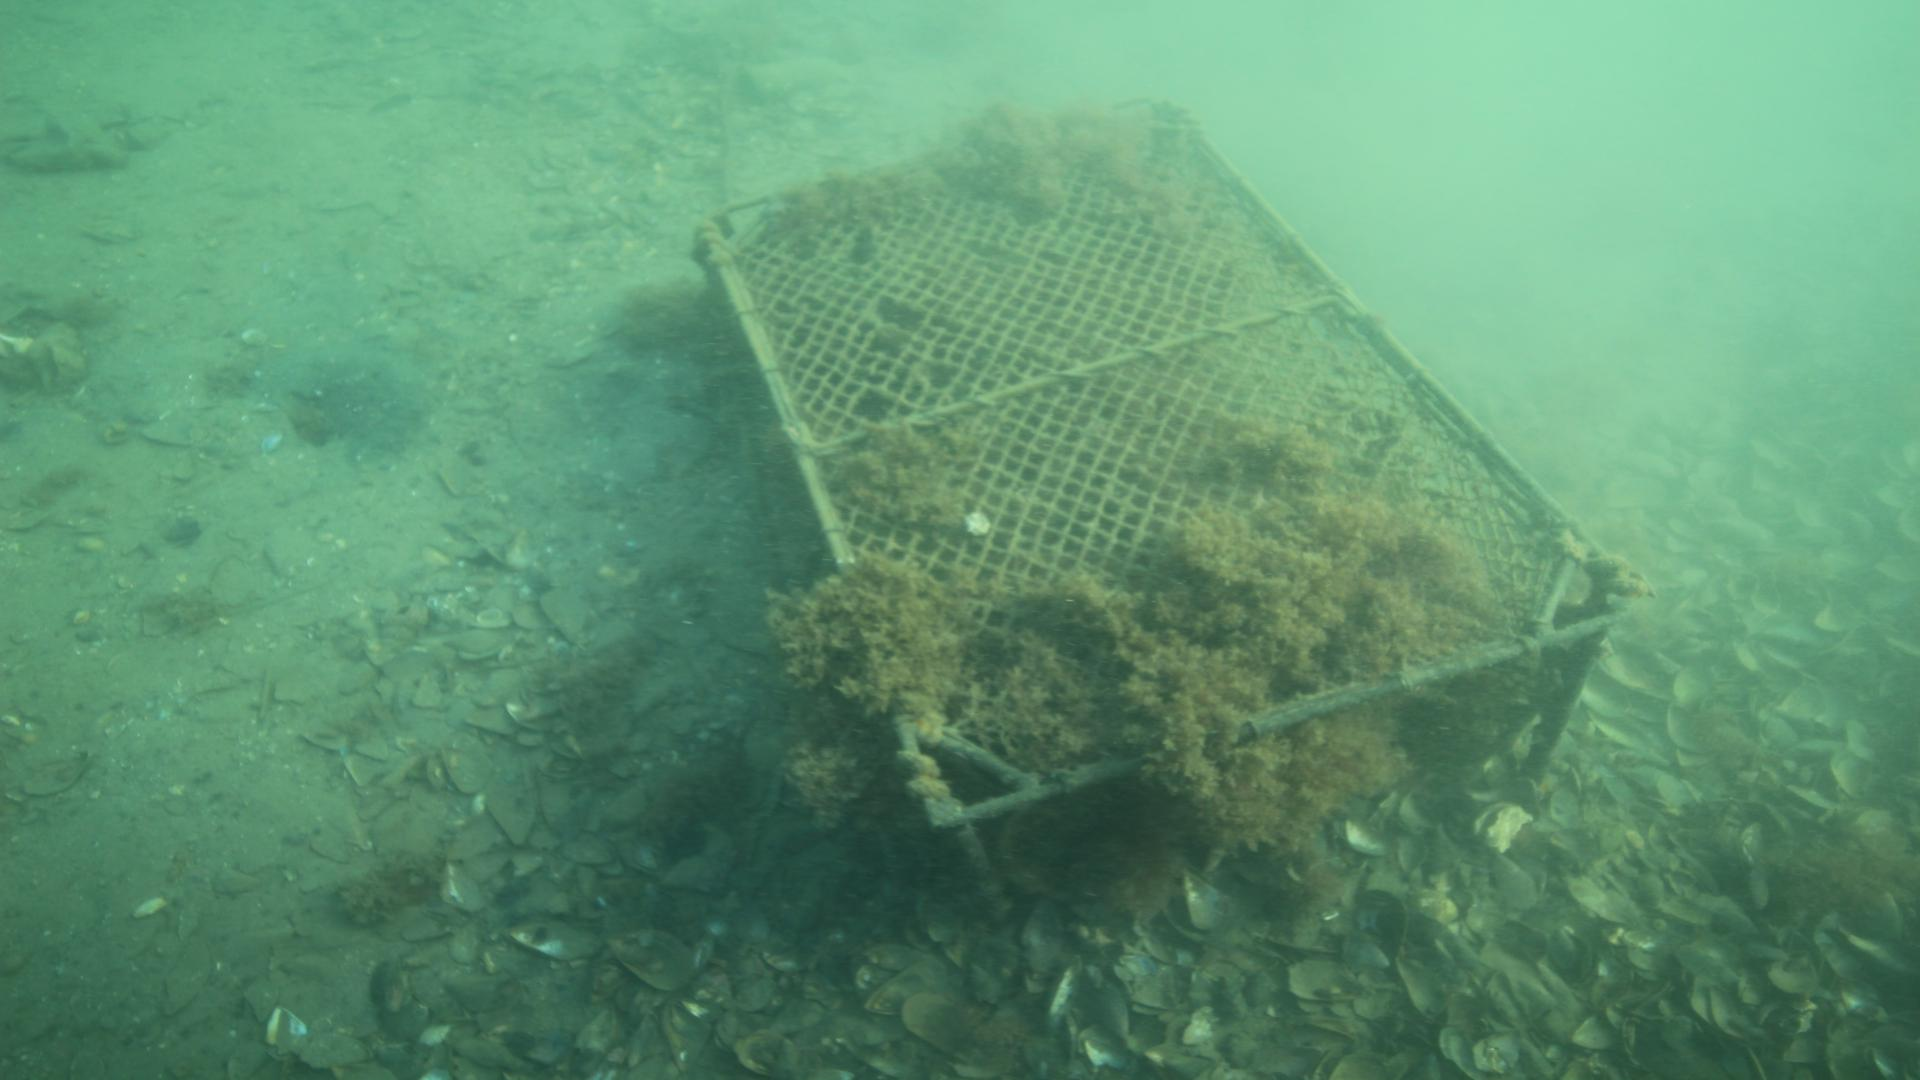rectangular fish trap: (698, 94, 1648, 923)
